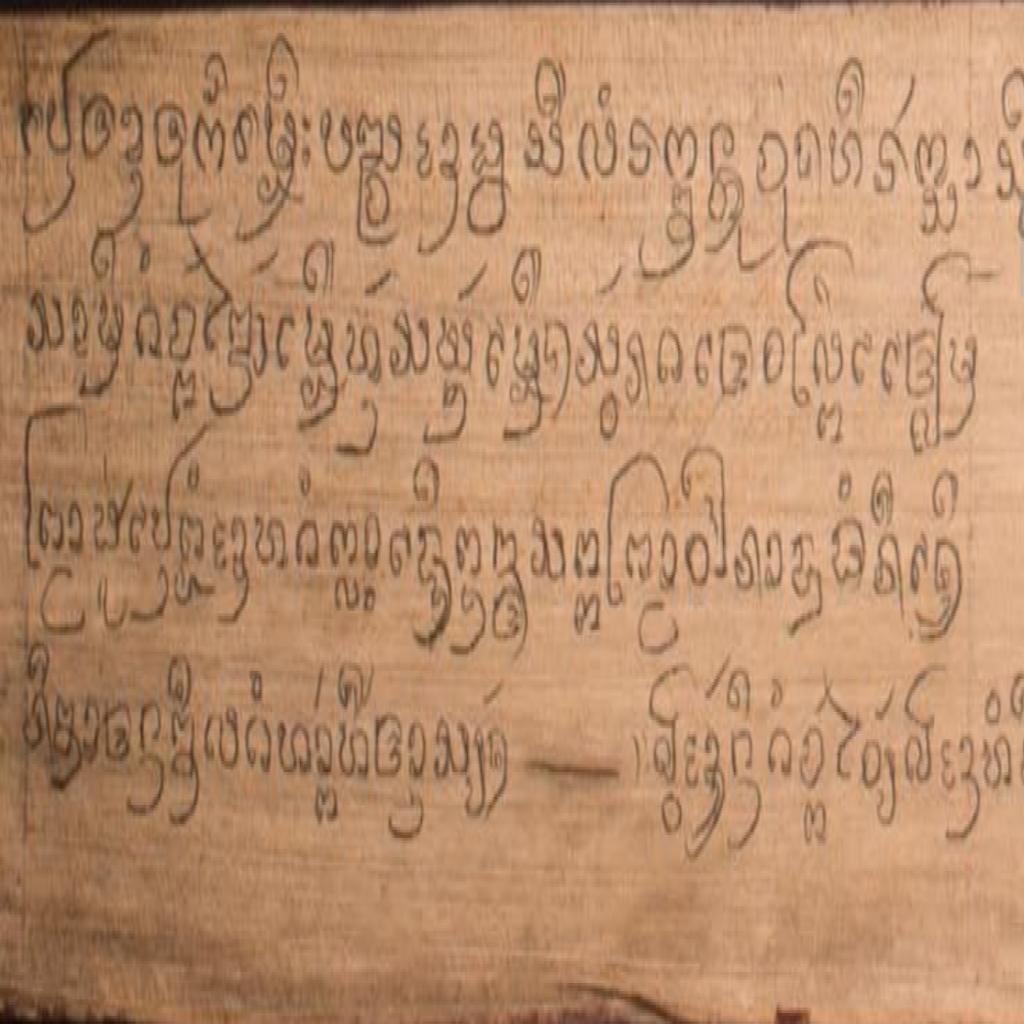LN001: (329, 516, 361, 572)
LN014: (465, 112, 509, 249)
